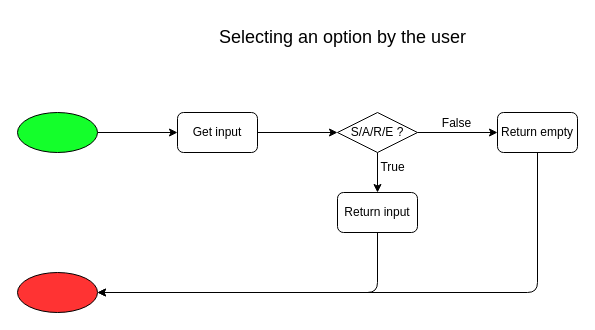
Image size: 595x330. Some labels were removed from this diagram. Each missing label, with the centre of its shape:
End: pixel 57 292
Start: pixel 57 132
